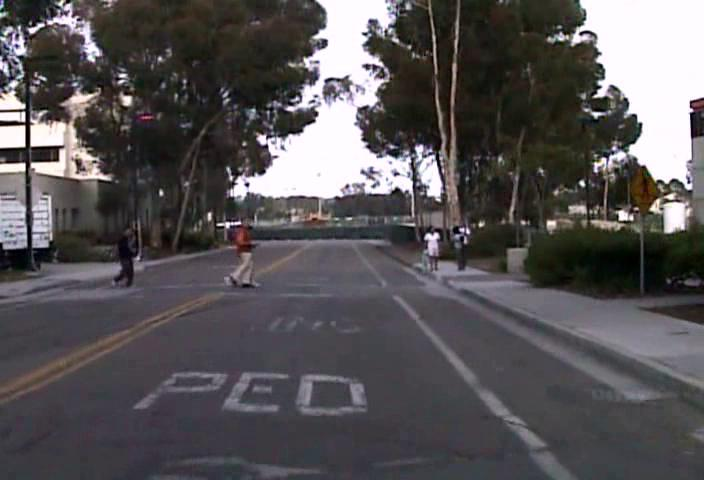pedestrianCrossing: (627, 164, 662, 212)
